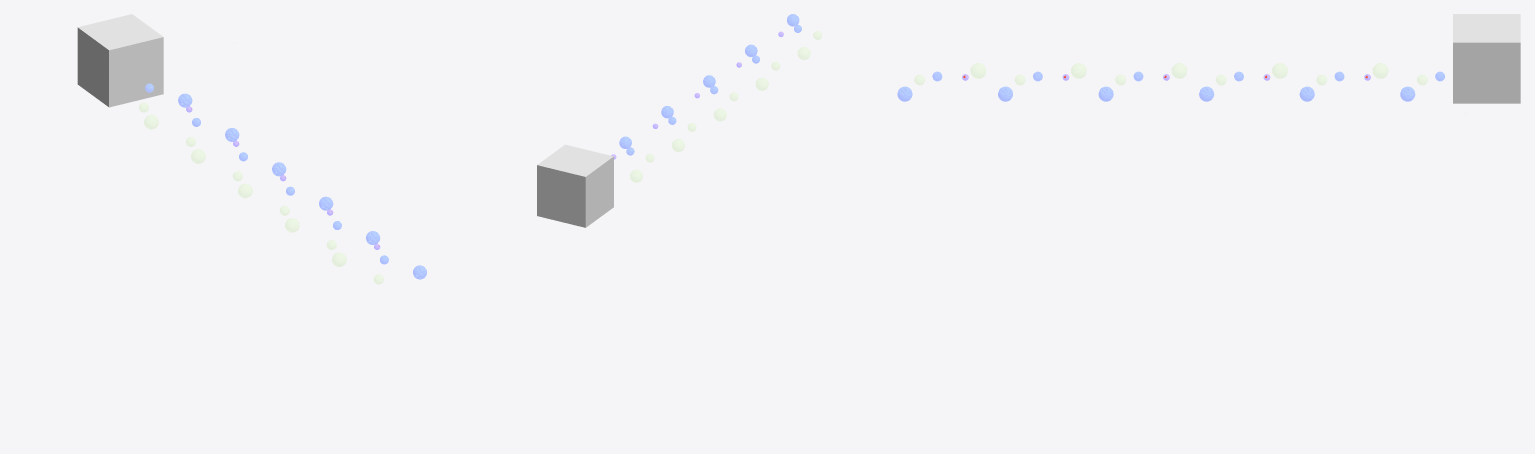
Rendered from shooter.glb.
3 views of the same model, side by side, from view 1: azimuth 30°, elevation 25°; view 2: azimuth 150°, elevation 25°; view 3: azimuth 270°, elevation 25° (orthographic). The views are drawn at different scales.
Visible parts, largest first — view 1: Fog; view 2: Fog; view 3: Fog.
Part boxes in pixels (left/top/right/bottom): Fog: left=77, top=14, right=163, bottom=107; Fog: left=537, top=144, right=613, bottom=227; Fog: left=1453, top=14, right=1520, bottom=103.
Bounding box in the file's own units: 104 × 119 × 186.
